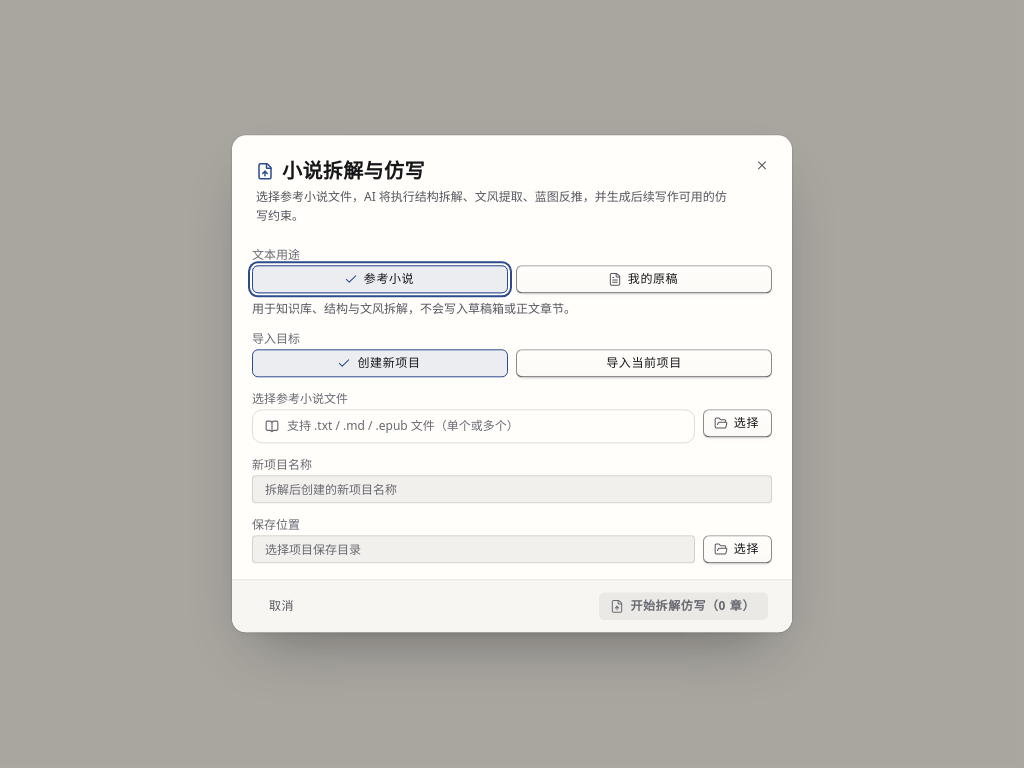
Scenario: current-project reference import › starts a fresh source run for each ordinary file selection
Later steps or results of the test are not shown.
Click the button with test id "import-target-current": {"x": 644, "y": 364} [516,350,772,378]
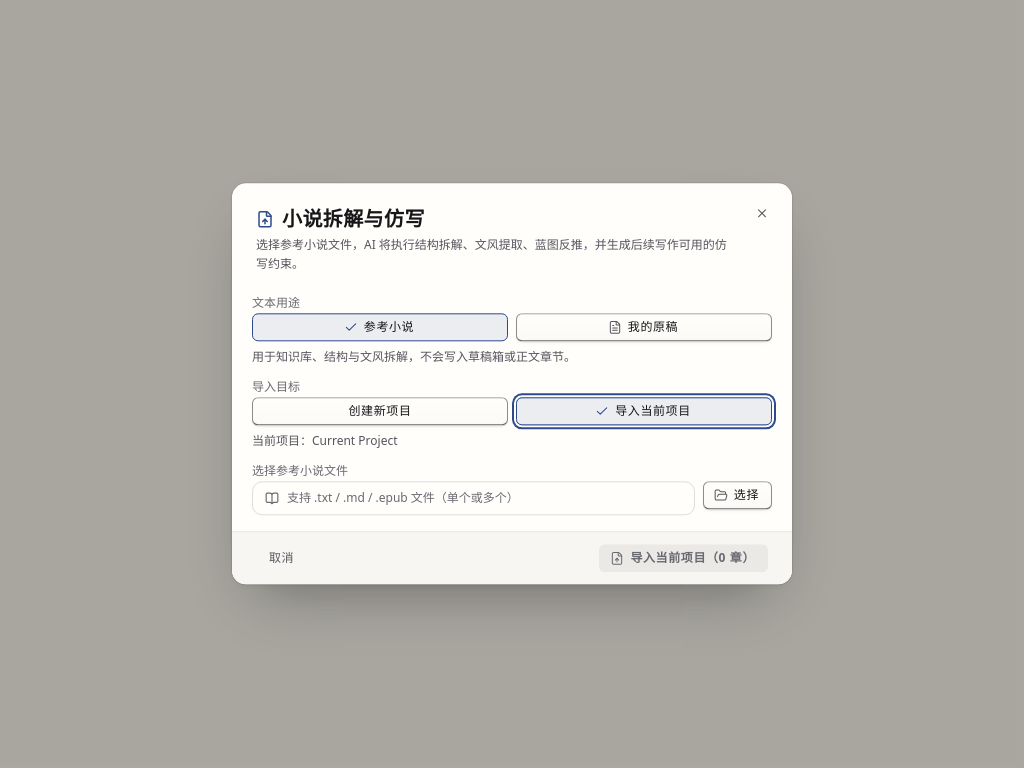
Click the button "选择": {"x": 737, "y": 496} [703,482,772,510]
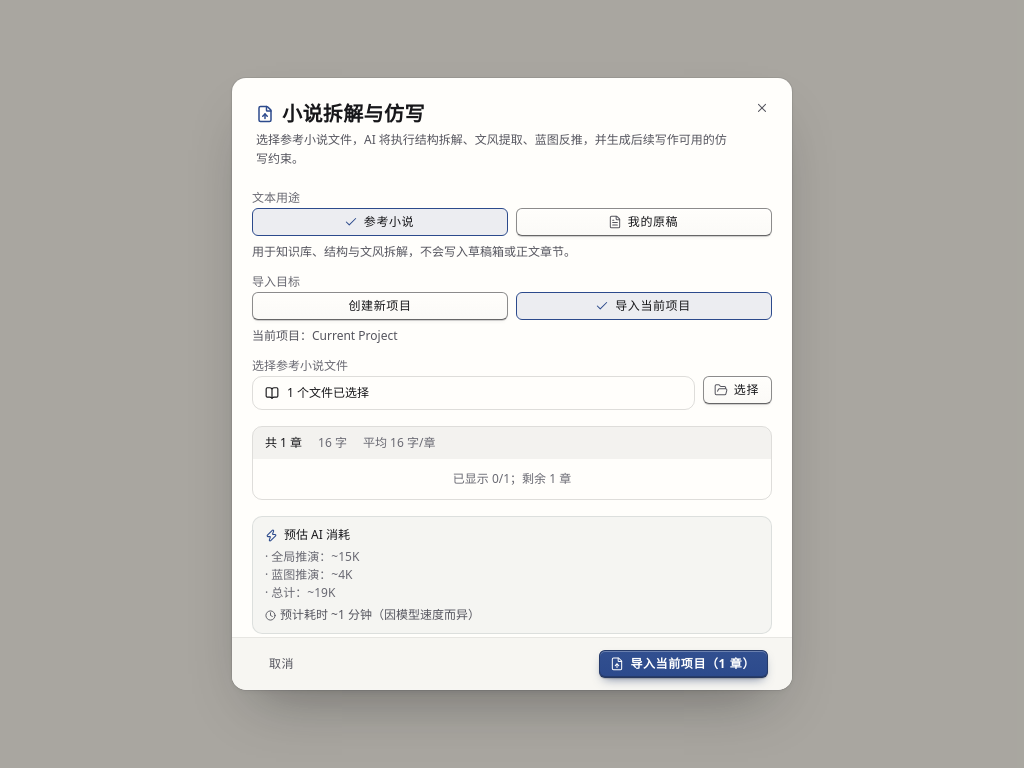
Now the text "共 1 章" is shown, box [265,435,302,451]
